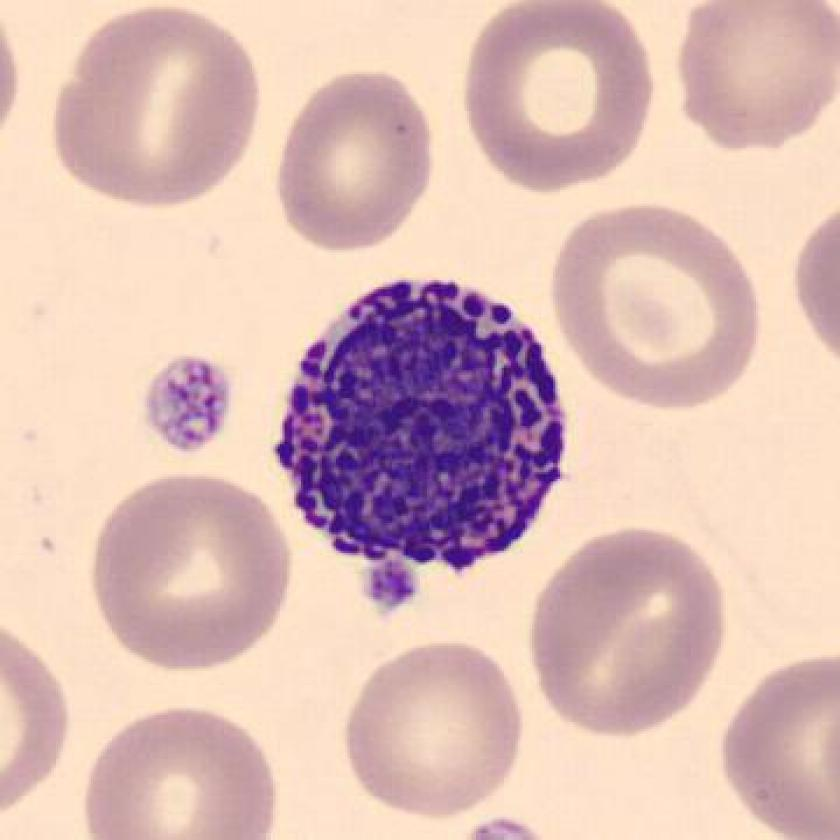basophil: (272, 270, 580, 591)
